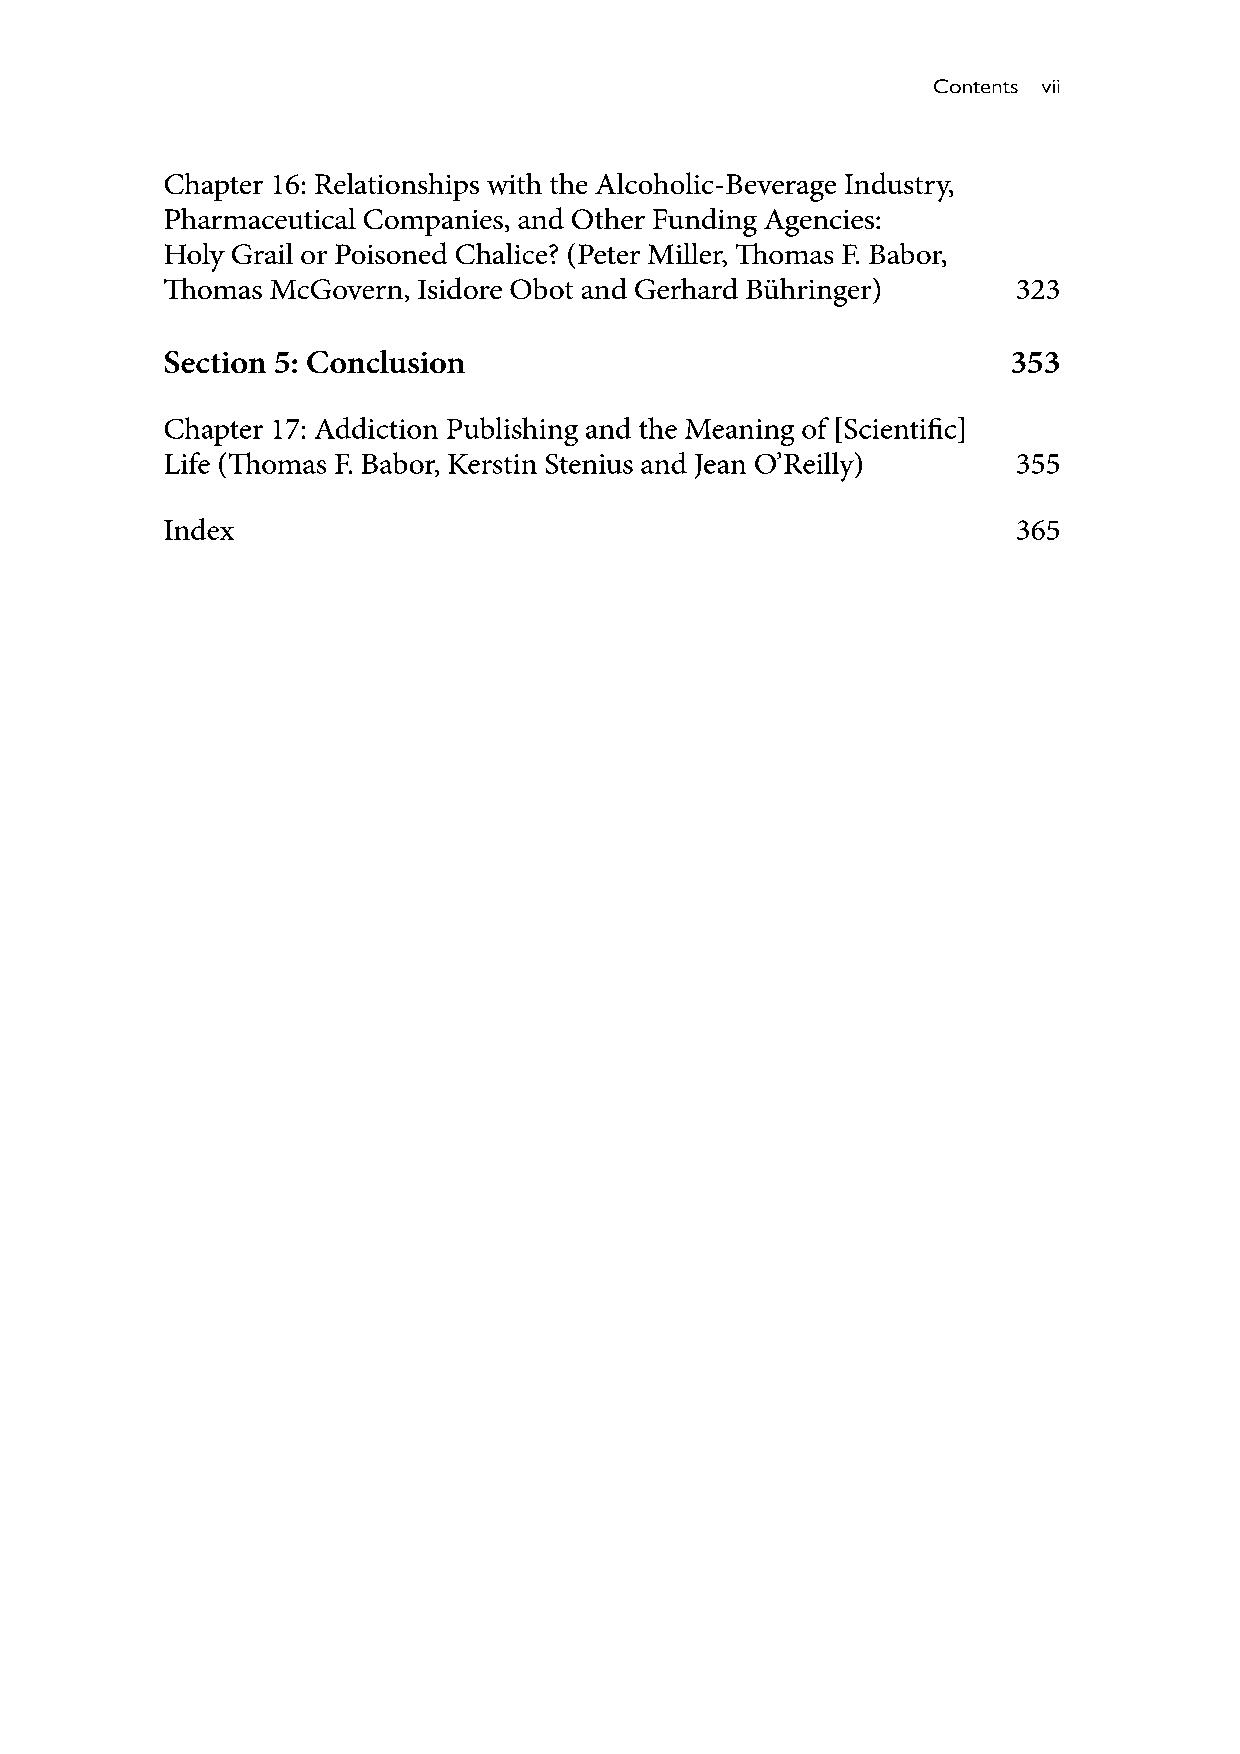TOC_chapter: (157, 166, 957, 311), (162, 411, 974, 488), (160, 344, 471, 381), (160, 507, 242, 544)
TOC_pagenumber: (1011, 509, 1072, 550), (1008, 264, 1062, 306), (1006, 446, 1067, 479), (1006, 344, 1063, 378)
chapter: (925, 68, 1021, 98), (178, 354, 187, 362)
